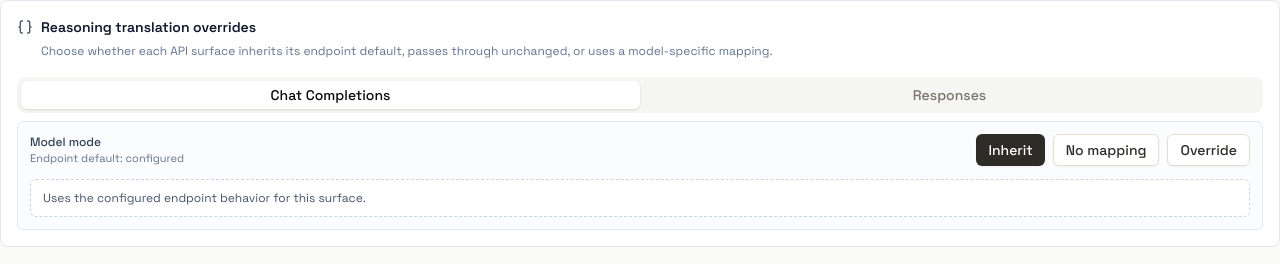
it: ReasoningTranslationEditor › serializes No mapping as disabled and explains pass-through semantics
Click the button with aria-label "No mapping Chat Completions" at (1106, 150), box [1053, 134, 1160, 166]
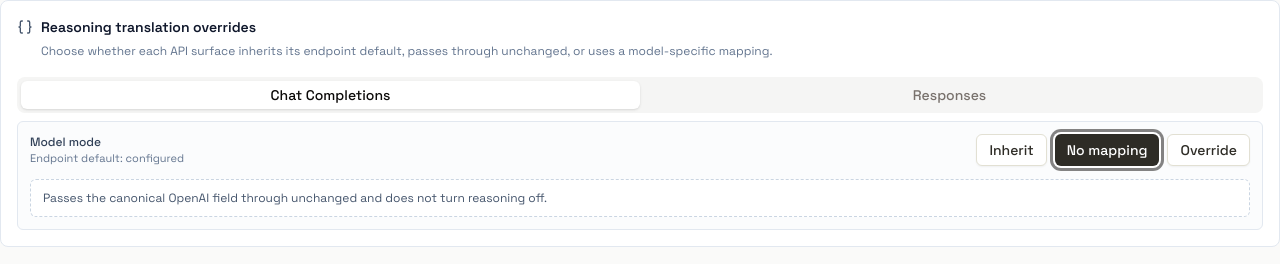
Expected: the text "does not turn reasoning off" is shown, [43, 190, 547, 206]
